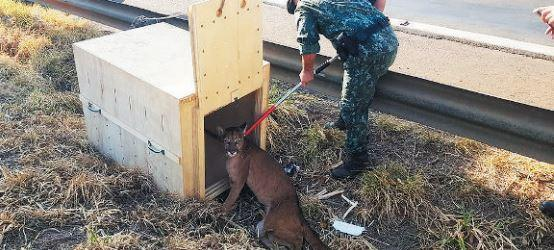OncaParda: (212, 120, 334, 250)
